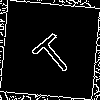T: (24, 24, 78, 80)
